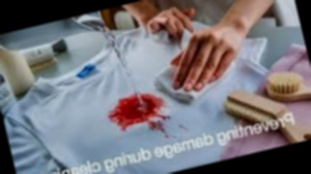blood: (106, 89, 168, 133)
